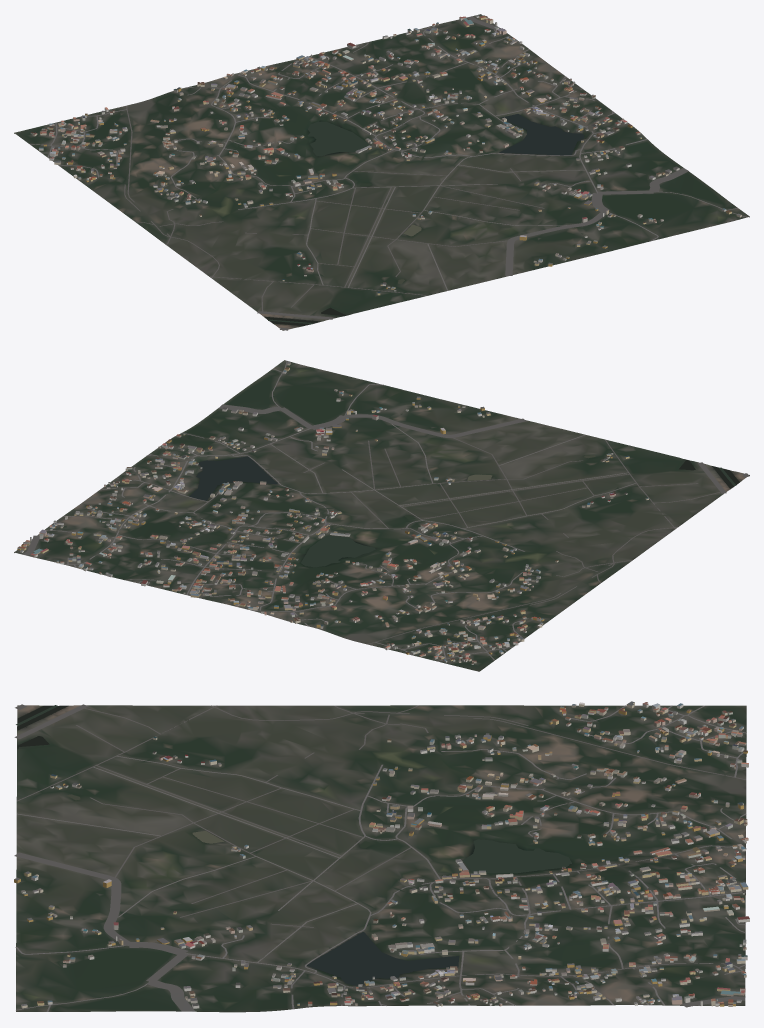
3 views of the same model, one above another, from view 1: azimuth 30°, elevation 25°; view 2: azimuth 150°, elevation 25°; view 3: azimuth 270°, elevation 25° (orthographic). The views are drawn at different scales.
Visible parts, largest first — view 1: ground, buildings, roads, water; view 2: ground, buildings, roads, water; view 3: ground, buildings, roads, water.
Boxes of the visible parts, x1,y1,x2,y2 form: ground: (14, 14, 749, 330); buildings: (30, 15, 741, 295); roads: (29, 16, 747, 330); water: (264, 114, 584, 325); ground: (14, 360, 749, 671); buildings: (17, 361, 648, 664); roads: (22, 360, 749, 661); water: (189, 455, 739, 567); ground: (16, 705, 746, 1012); buildings: (14, 701, 749, 1008); roads: (14, 704, 746, 1011); water: (16, 705, 571, 985).
Bounding box in the file's own units: 1414 × 30.13 × 1414.
